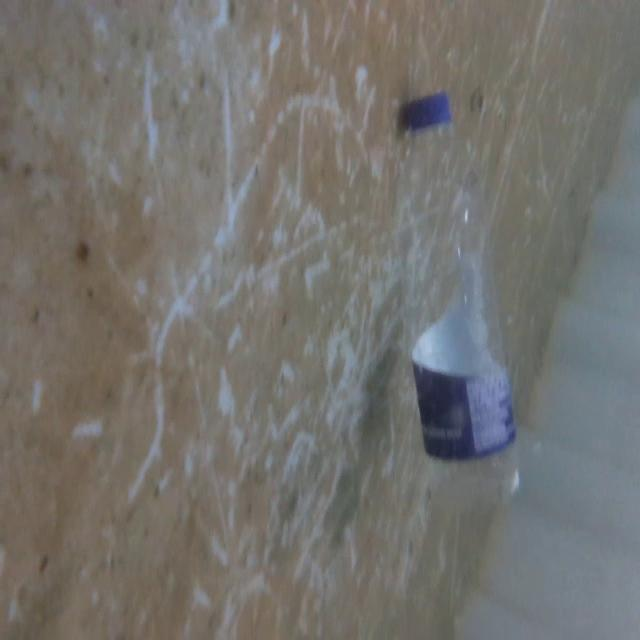plastic bottle: (393, 89, 535, 517)
